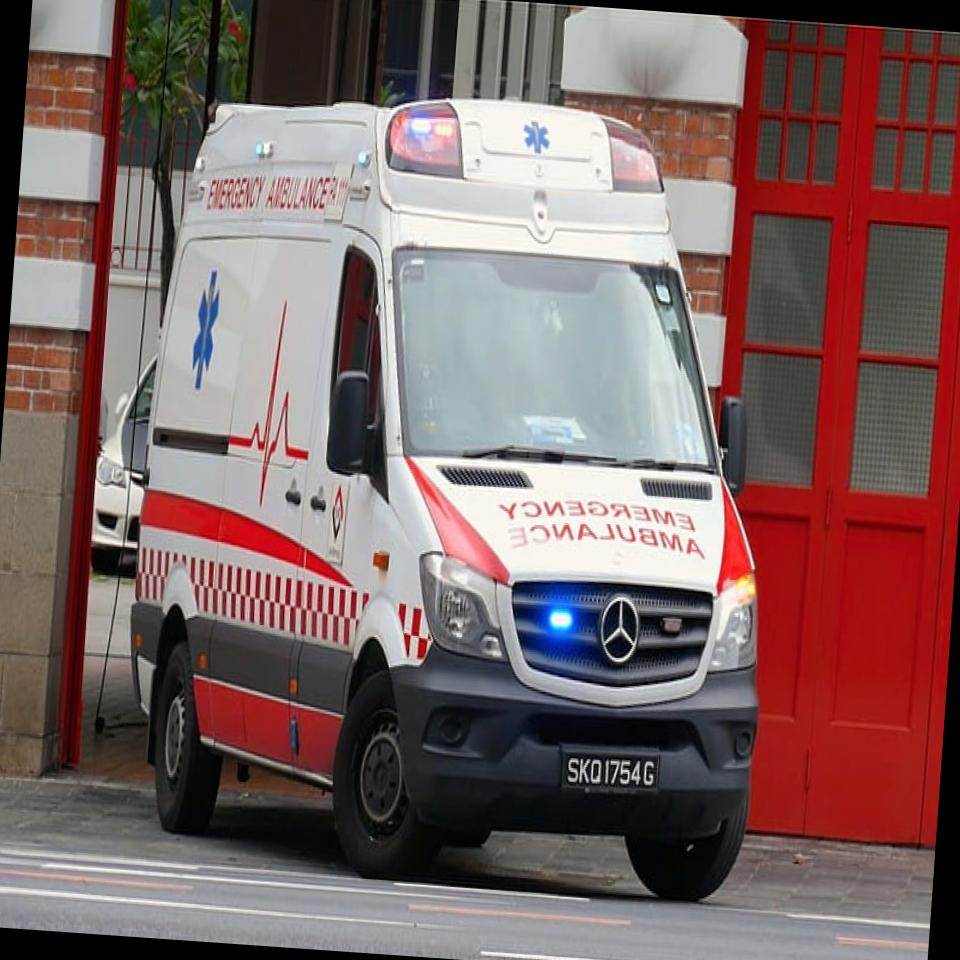bombeiro: (117, 72, 804, 910)
